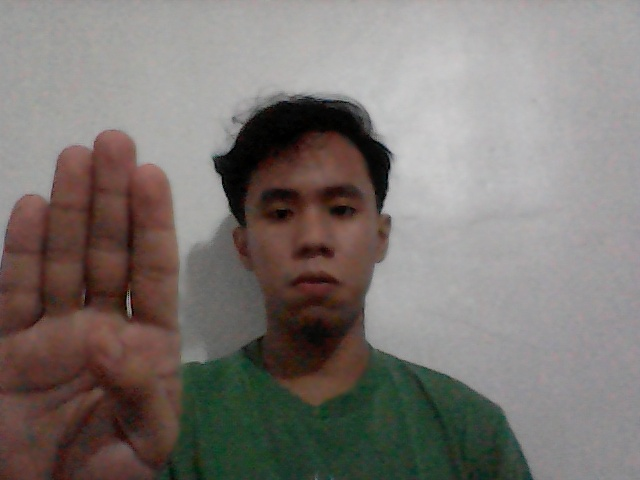B: (3, 105, 204, 480)
